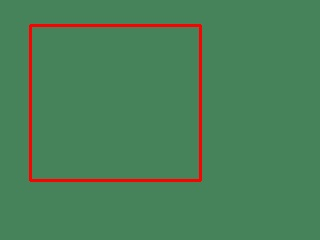primordium: (30, 25, 200, 180)
